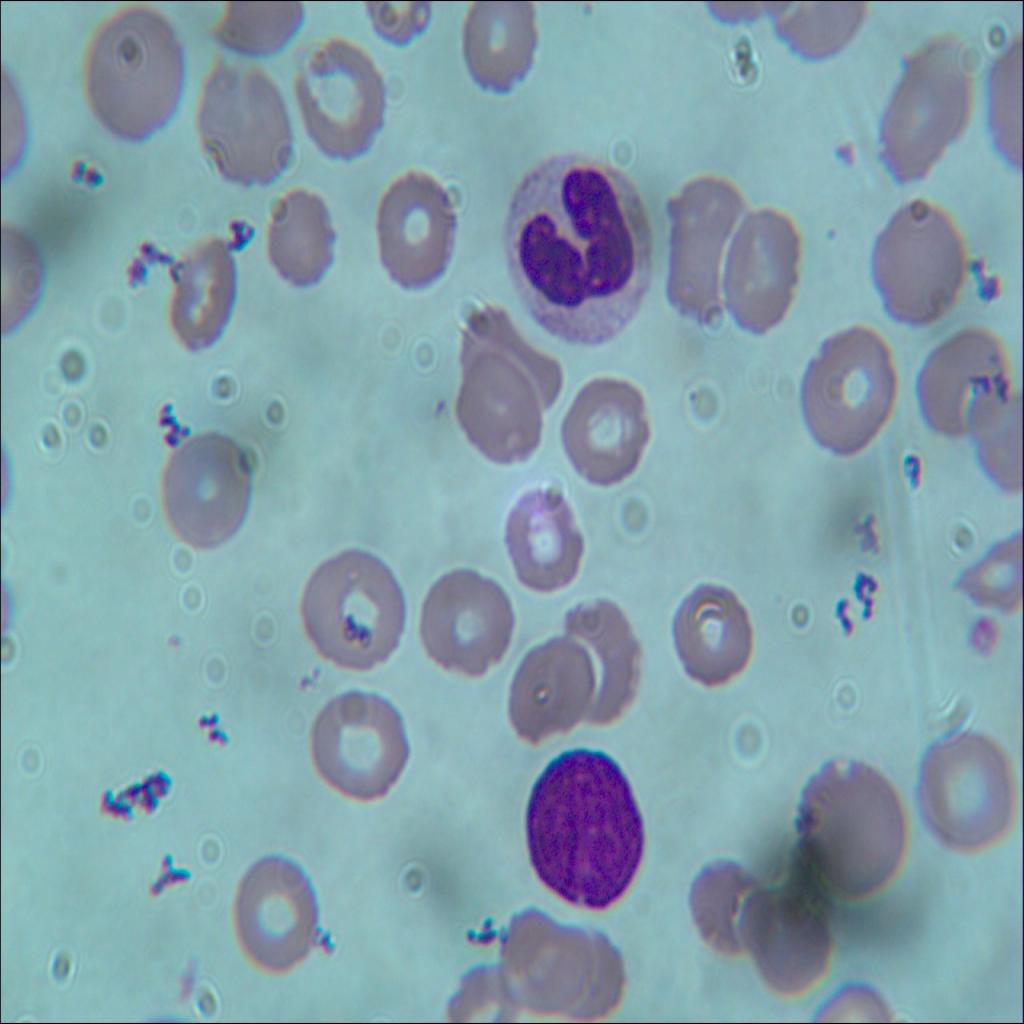Eritrosit: (793, 749, 908, 898), (901, 302, 1016, 438), (298, 538, 410, 672), (790, 319, 896, 455), (875, 39, 974, 178), (76, 11, 178, 145), (658, 175, 746, 325), (192, 58, 294, 186), (711, 204, 806, 341), (149, 434, 256, 552), (914, 725, 1008, 859), (872, 205, 970, 328), (416, 559, 513, 682), (228, 847, 319, 974), (291, 35, 382, 162), (461, 298, 563, 408), (566, 365, 652, 494), (313, 690, 409, 802), (162, 228, 244, 358), (258, 177, 344, 296), (502, 630, 598, 734), (668, 582, 758, 692), (458, 358, 544, 472), (566, 589, 642, 718), (500, 904, 586, 1016), (738, 884, 833, 985), (378, 169, 455, 291), (686, 855, 766, 962), (504, 482, 581, 592), (554, 922, 628, 1023), (458, 0, 534, 97), (958, 515, 1023, 624), (958, 395, 1024, 501), (213, 0, 306, 51)
Limfoblast: (524, 740, 650, 921)
Neutrofil: (504, 145, 655, 355)
Platelet: (826, 128, 864, 178), (966, 610, 1001, 652), (816, 222, 846, 269), (164, 614, 188, 668), (430, 388, 464, 420), (82, 166, 114, 198), (290, 668, 328, 694), (66, 148, 84, 189), (688, 381, 699, 405)
